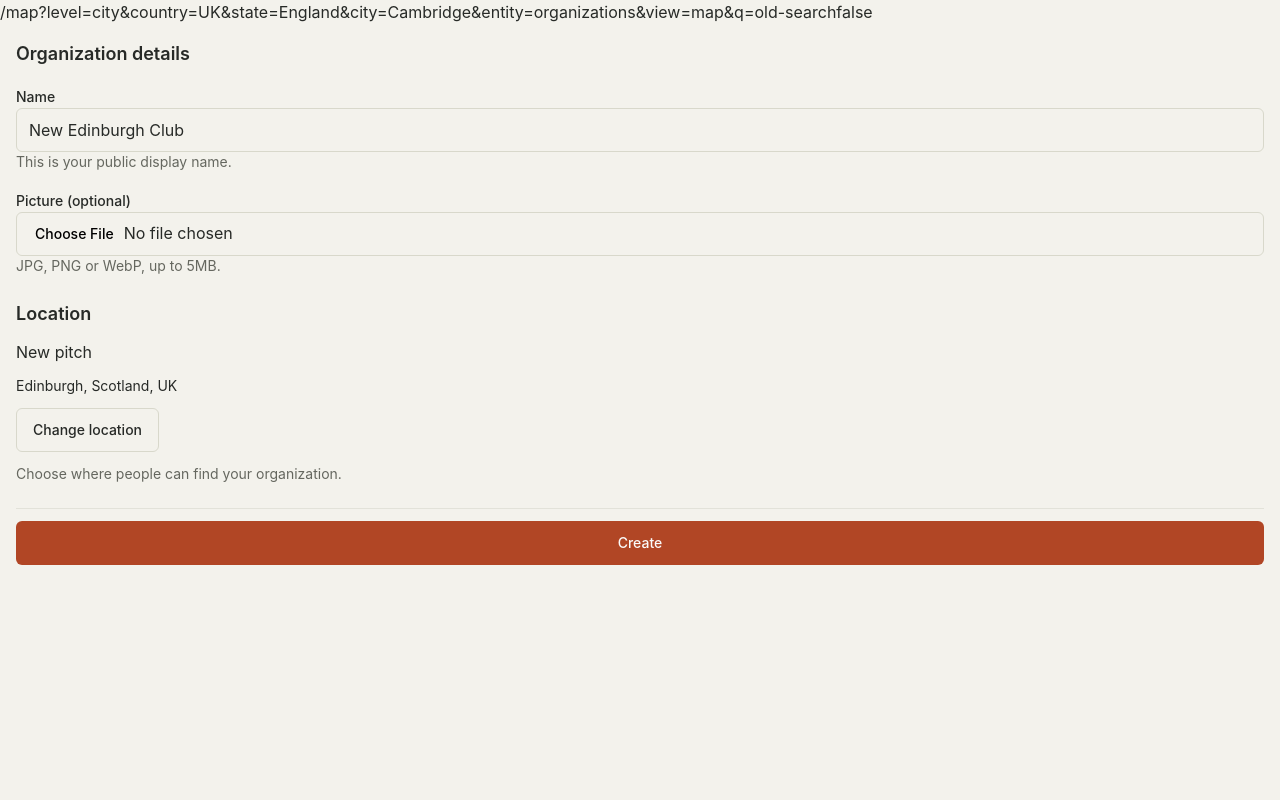
Test: keeps actual organization creation visible from England/Cambridge (old-search, legacy) with one invalidation
Earlier steps of the test are not shown.
Step 1. Click the button "Create" → (640, 543), box [16, 521, 1264, 565]
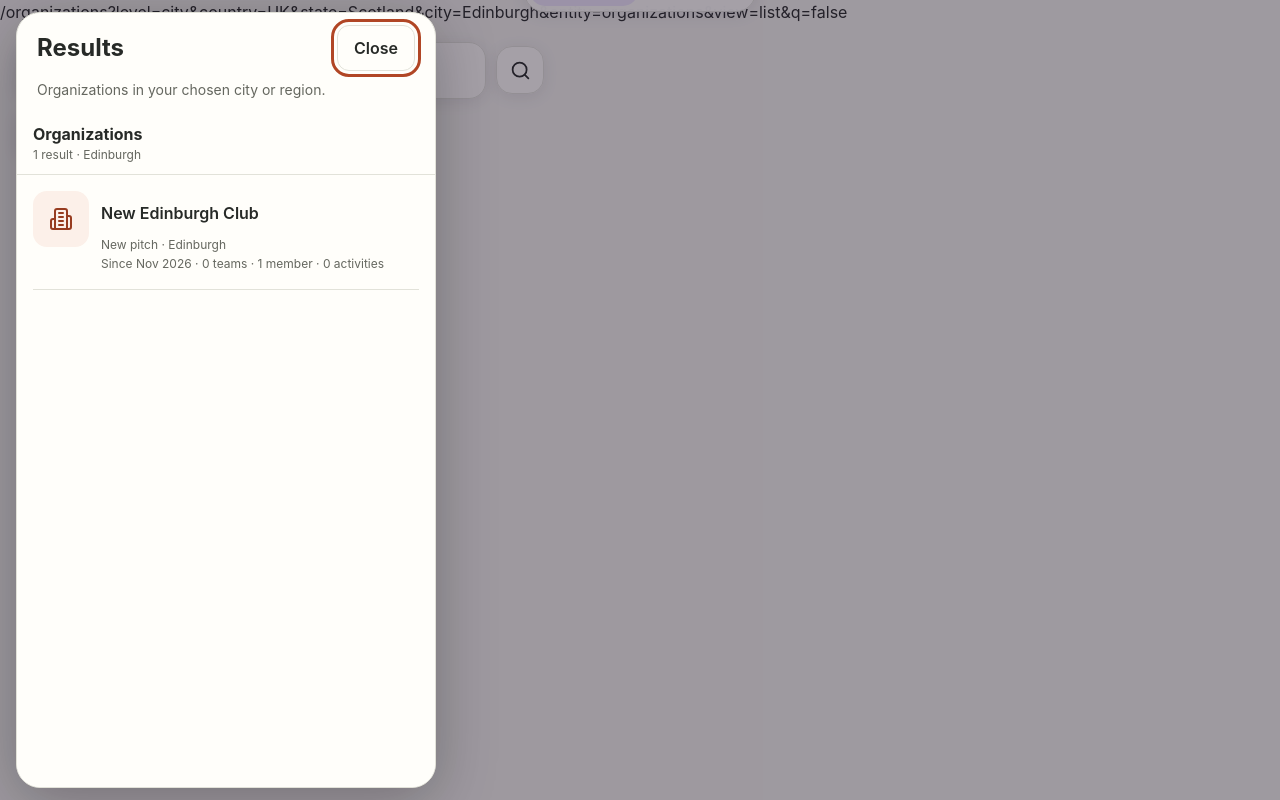
expect the button with aria-label "About New Edinburgh Club" is shown: met, box [101, 191, 259, 235]
expect the number of dialogs is 1: met, box [16, 12, 436, 788]
expect the heading "Results" is shown: met, box [37, 30, 124, 66]
